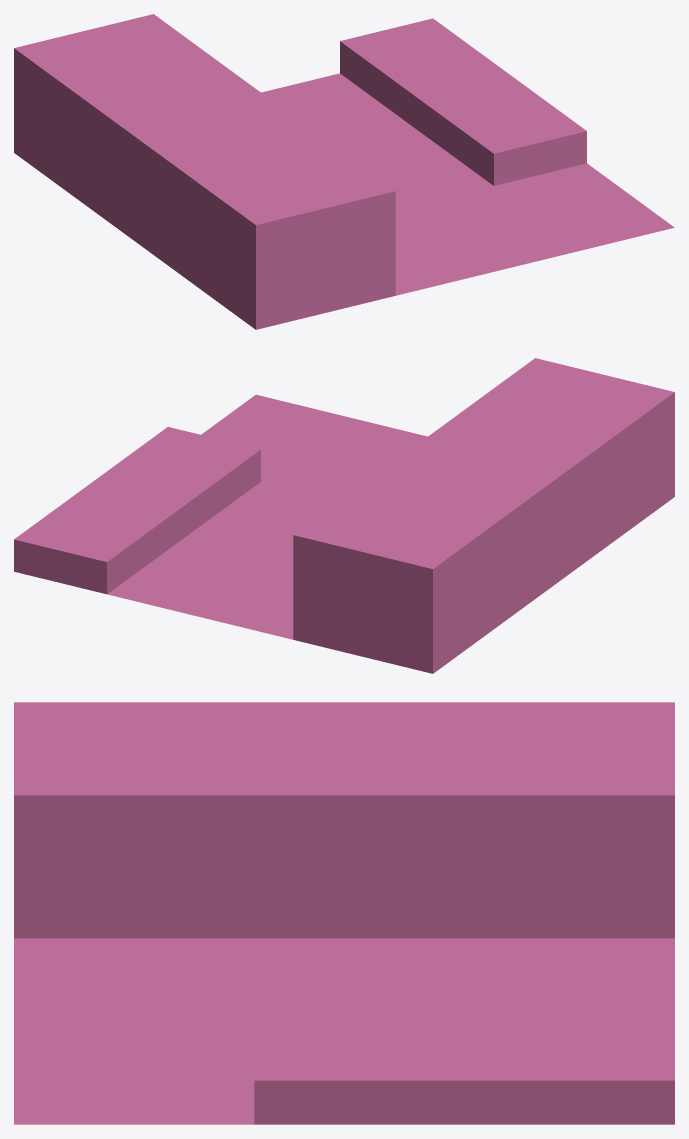
File: secondFloorTile.dae
3 views of the same model, one above another, from view 1: azimuth 30°, elevation 25°; view 2: azimuth 150°, elevation 25°; view 3: azimuth 270°, elevation 25° (orthographic). The views are drawn at different scales.
Visible parts, largest first — view 1: Plane; view 2: Plane; view 3: Plane.
Part boxes in pixels (x1,y1,x2,y2): Plane: (14,14,674,329); Plane: (14,358,674,673); Plane: (14,702,674,1124).
Bounding box in the file's own units: 16 × 16 × 3.82.
